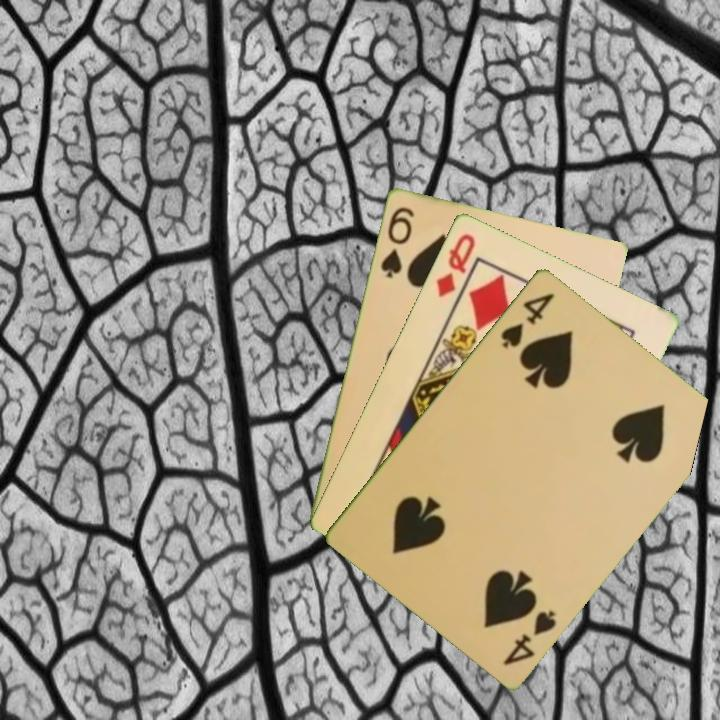4s: (497, 289, 558, 351), (499, 606, 559, 668)
6s: (376, 202, 417, 281)
Qd: (432, 229, 478, 300)
